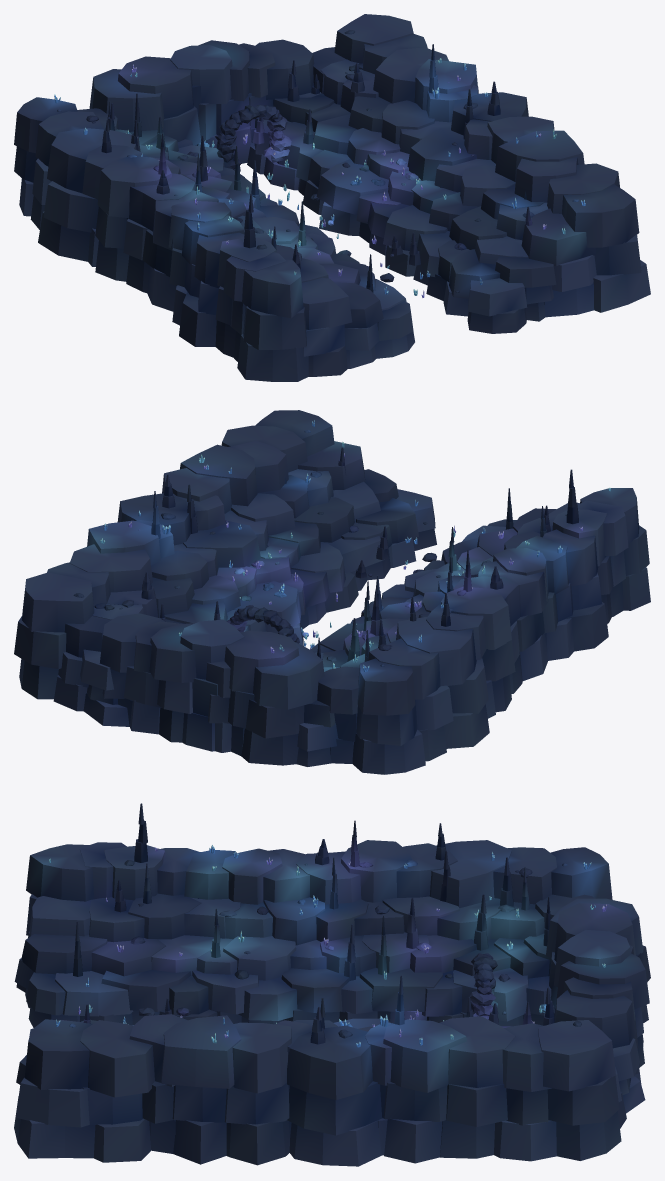
File: deep.glb
The picture shows the model from 3 angles, top to bottom: view 1: azimuth 30°, elevation 25°; view 2: azimuth 150°, elevation 25°; view 3: azimuth 270°, elevation 25°; orthographic projection. The views are drawn at different scales.
Visible parts, largest first — view 1: rock_3_3, rock_5_3, rock_3_5, rock_5_6, rock_4_6, rock_5_5, rock_5_4, rock_3_4, rock_6_3, rock_3_6, rock_6_4, rock_6_5 (+10 smaller); view 2: rock_3_6, rock_4_7, rock_3_4, rock_6_6, rock_5_3, rock_5_4, rock_5_7, rock_3_5, rock_3_3, rock_5_5, rock_6_4, rock_6_5 (+7 smaller); view 3: rock_6_5, rock_6_4, rock_6_3, rock_6_6, rock_4_3, rock_4_5, rock_4_4, rock_4_6, rock_3_3, rock_3_5, rock_3_6, rock_3_4 (+4 smaller).
Boxes of the visible parts, x1,y1,x2,y2 form: rock_3_3: (195,193,352,381); rock_5_3: (409,194,579,333); rock_3_5: (38,119,202,291); rock_5_6: (200,39,375,190); rock_4_6: (92,51,257,171); rock_5_5: (294,97,452,235); rock_5_4: (356,145,515,285); rock_3_4: (141,178,276,346); rock_6_3: (514,153,645,312); rock_3_6: (14,97,131,229); rock_6_4: (452,81,582,192); rock_6_5: (373,44,528,144); rock_3_6: (307,620,478,774); rock_4_7: (185,634,312,766); rock_3_4: (472,534,608,682); rock_6_6: (14,551,157,699); rock_5_3: (281,446,436,580); rock_5_4: (216,488,382,629); rock_5_7: (81,628,210,744); rock_3_5: (387,550,522,746); rock_3_3: (533,469,650,623); rock_5_5: (152,533,308,646); rock_6_4: (144,444,293,534); rock_6_5: (74,484,215,586); rock_6_5: (308,975,480,1166); rock_6_4: (161,1001,335,1165); rock_6_3: (16,1014,175,1162); rock_6_6: (471,1016,621,1161); rock_4_3: (16,905,190,1027); rock_4_5: (308,897,478,1023); rock_4_4: (160,903,327,1024); rock_4_6: (452,894,631,1026); rock_3_3: (26,803,183,937); rock_3_5: (307,820,468,932); rock_3_6: (456,840,612,920); rock_3_4: (162,847,332,916).
Size of the model in its own units: 174 by 58.23 by 203.
